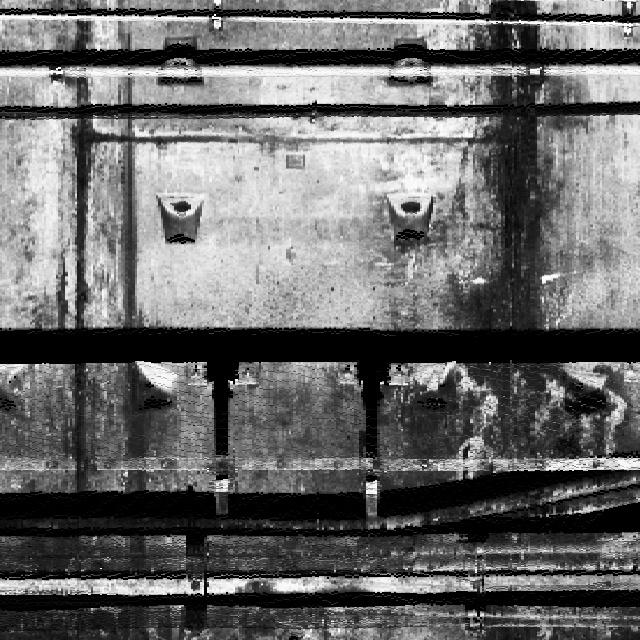leakage: (435, 0, 615, 515), (46, 0, 101, 492), (110, 0, 150, 572)
